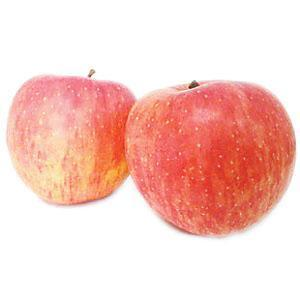apple: (123, 77, 293, 242), (6, 75, 135, 209)
